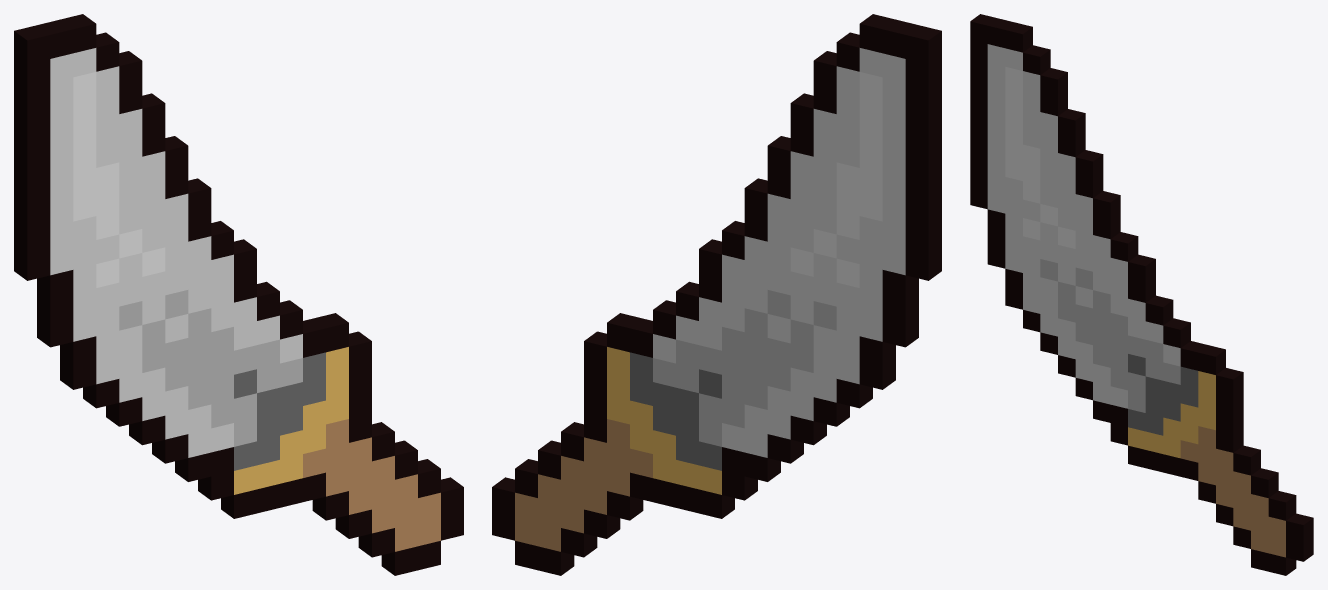
The model's file is W_Dagger003.fbx.
The picture shows the model from 3 angles, left to right: view 1: azimuth 30°, elevation 25°; view 2: azimuth 150°, elevation 25°; view 3: azimuth 330°, elevation 25°; orthographic projection. The views are drawn at different scales.
Parts seen in each view (by area): view 1: Default; view 2: Default; view 3: Default.
Part boxes in pixels (box(x1,y1,x2,y2)): Default: box(14, 14, 463, 575); Default: box(492, 14, 941, 575); Default: box(970, 14, 1313, 575).
Size of the model in its own units: 19 by 26 by 1.
Materials: 1 (1 with a texture image).
